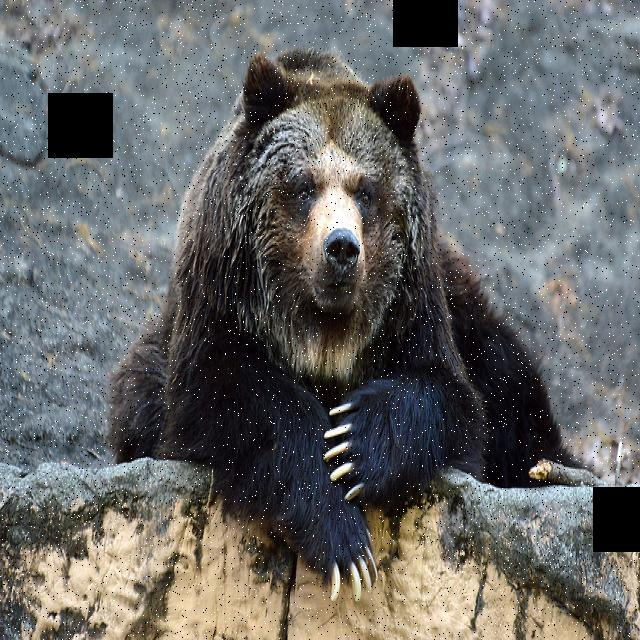Bear: (110, 41, 574, 487)
